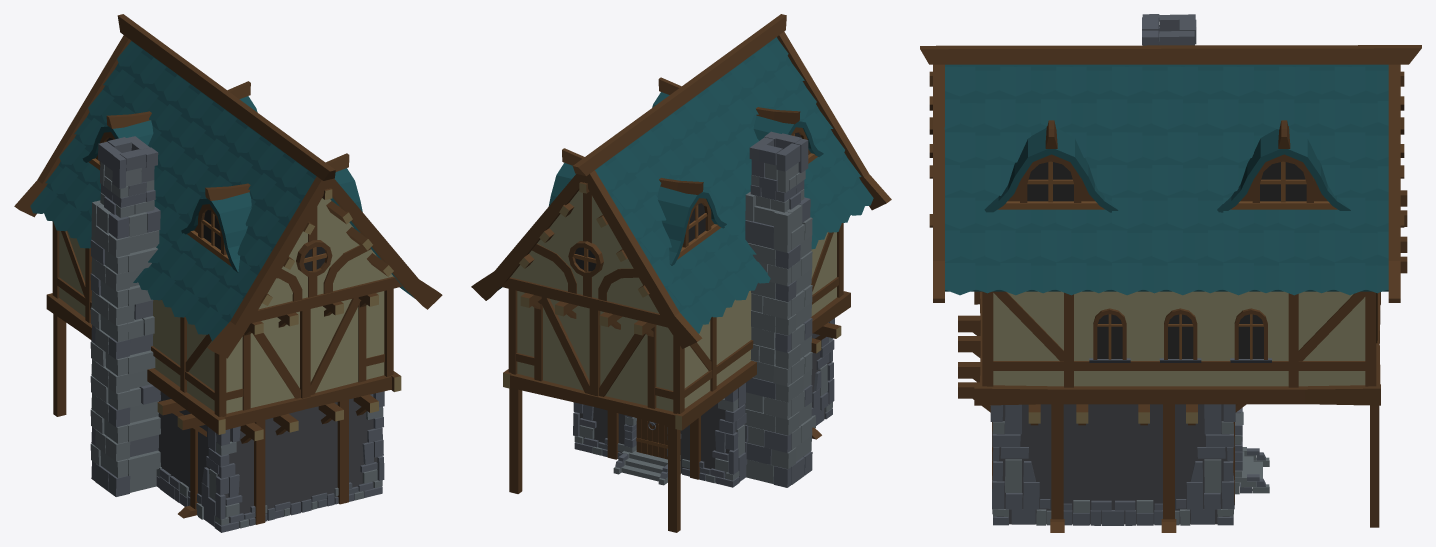
File: house-b.glb
The picture shows the model from 3 angles, left to right: view 1: azimuth 30°, elevation 25°; view 2: azimuth 150°, elevation 25°; view 3: azimuth 270°, elevation 25°; orthographic projection. The views are drawn at different scales.
Parts seen in each view (by area): view 1: House_2; view 2: House_2; view 3: House_2.
Part boxes in pixels (x1,y1,x2,y2): House_2: (14, 14, 442, 532); House_2: (471, 14, 891, 532); House_2: (920, 14, 1421, 532).
Bounding box in the file's own units: 2.22 × 3.25 × 3.42.
